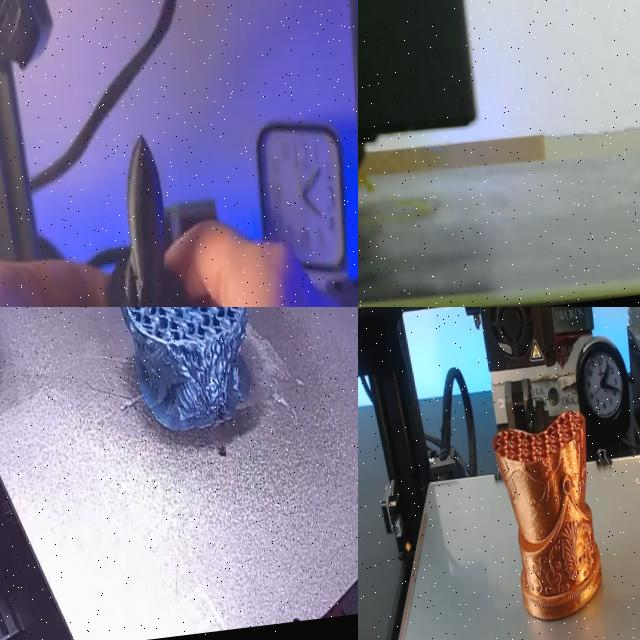spaghetti: (358, 171, 373, 192)
